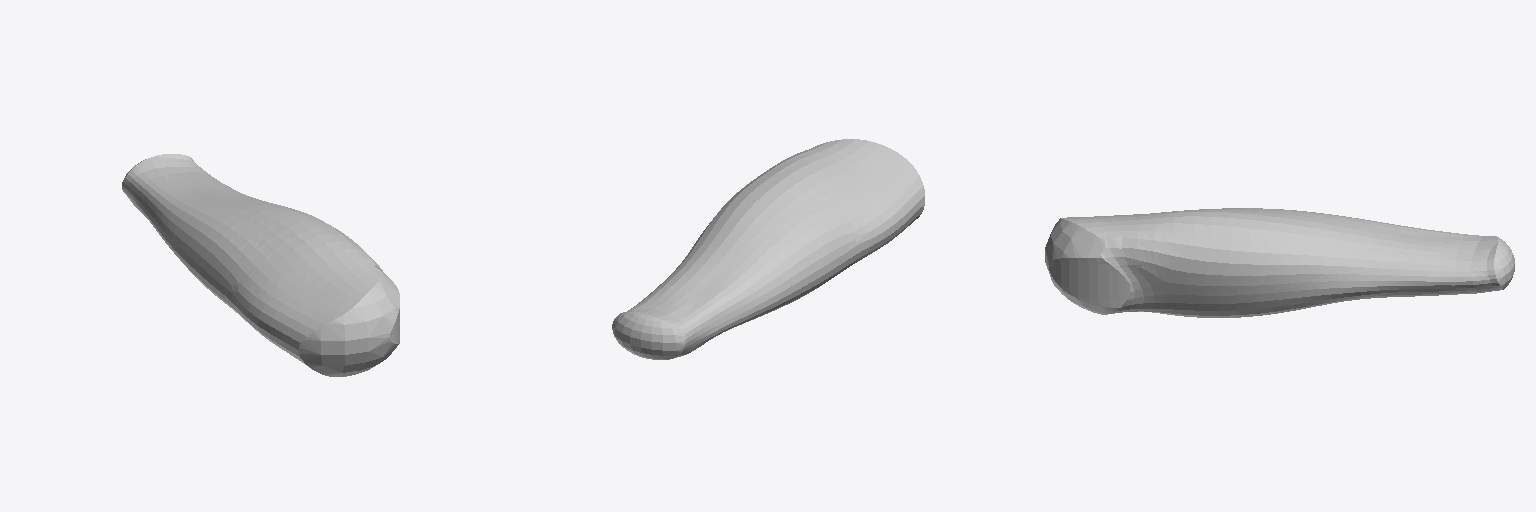
The model's file is R_ARM_FORE.obj.
The picture shows the model from 3 angles: view 1: azimuth 30°, elevation 25°; view 2: azimuth 150°, elevation 25°; view 3: azimuth 270°, elevation 25°; orthographic projection.
Bounding box in the file's own units: 0.0923 × 0.0674 × 0.2986.